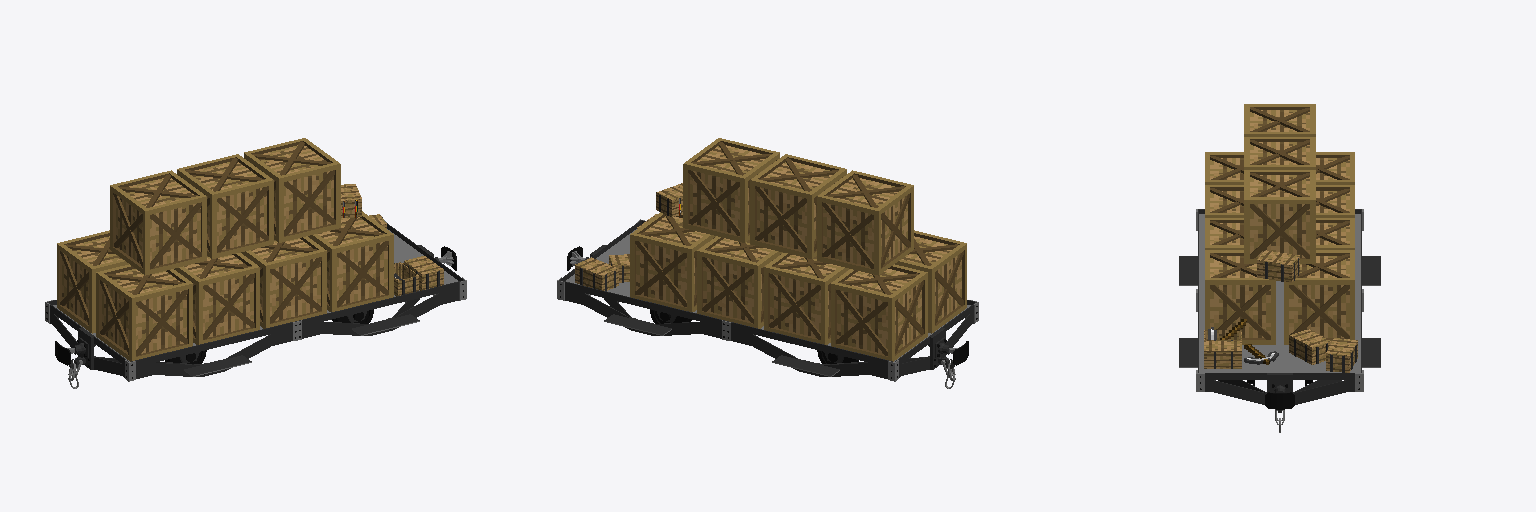
3 renders of one model, left to right at view 1: azimuth 30°, elevation 25°; view 2: azimuth 150°, elevation 25°; view 3: azimuth 270°, elevation 25°, orthographic.
Visible parts, largest first — view 1: FRAME, CARGO_FILL_84, CARGO_FILL_56, CARGO_FILL_70, CARGO_FILL_77, CARGO_FILL_8, CARGO_FILL_38, CARGO_FILL_24, CARGO_FILL_48, CARGO_FILL_91, COUPLER_FRONT, CARGO_FILL_63; view 2: FRAME, CARGO_FILL_84, CARGO_FILL_48, CARGO_FILL_70, CARGO_FILL_77, CARGO_FILL_1, CARGO_FILL_30, CARGO_FILL_15, CARGO_FILL_56, CARGO_FILL_63, COUPLER_FRONT; view 3: FRAME, CARGO_FILL_70, CARGO_FILL_1, CARGO_FILL_8, CARGO_FILL_63, CARGO_FILL_84, CARGO_FILL_77, CARGO_FILL_91, CARGO_FILL_56, CARGO_FILL_38, CARGO_FILL_30, CARGO_FILL_48 (+3 smaller).
Part boxes in pixels (x1,y1,x2,y2): FRAME: (45,220,466,381); CARGO_FILL_84: (110,170,206,275); CARGO_FILL_56: (96,264,192,361); CARGO_FILL_70: (244,138,344,242); CARGO_FILL_77: (177,154,273,258); CARGO_FILL_8: (308,211,393,311); CARGO_FILL_38: (174,253,259,344); CARGO_FILL_24: (241,236,326,328); CARGO_FILL_48: (57,230,128,333); CARGO_FILL_91: (394,256,443,296); COUPLER_FRONT: (55,337,88,388); CARGO_FILL_63: (341,184,386,228); FRAME: (557,219,978,381); CARGO_FILL_84: (817,170,913,275); CARGO_FILL_48: (831,264,927,361); CARGO_FILL_70: (683,138,779,242); CARGO_FILL_77: (750,154,846,258); CARGO_FILL_1: (630,212,715,311); CARGO_FILL_30: (764,253,849,344); CARGO_FILL_15: (697,236,782,328); CARGO_FILL_56: (895,230,966,333); CARGO_FILL_63: (575,183,682,290); COUPLER_FRONT: (935,337,968,388); FRAME: (1179,209,1380,404); CARGO_FILL_70: (1244,170,1315,263); CARGO_FILL_1: (1284,250,1354,344); CARGO_FILL_8: (1205,250,1275,344); CARGO_FILL_63: (1257,250,1357,372); CARGO_FILL_84: (1244,104,1315,136); CARGO_FILL_77: (1244,137,1315,169); CARGO_FILL_91: (1204,319,1278,368); CARGO_FILL_56: (1205,152,1243,184); CARGO_FILL_38: (1205,185,1243,217); CARGO_FILL_30: (1316,185,1354,217); CARGO_FILL_48: (1316,152,1354,184).
Bounding box in the file's own units: 6.23 × 2.7 × 2.77.
1 materials, 1 textured.